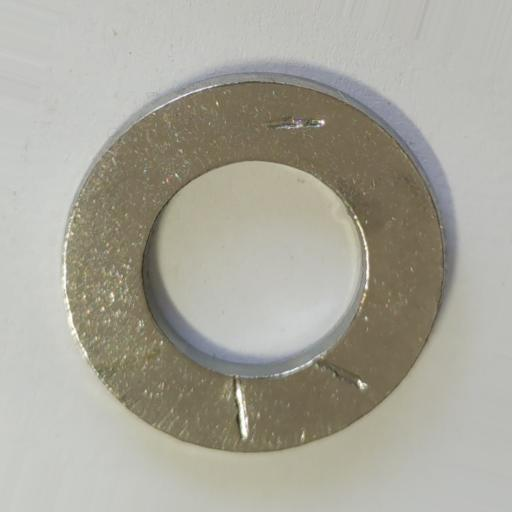scratch: (315, 358, 368, 390), (231, 374, 251, 442), (261, 114, 326, 131)
